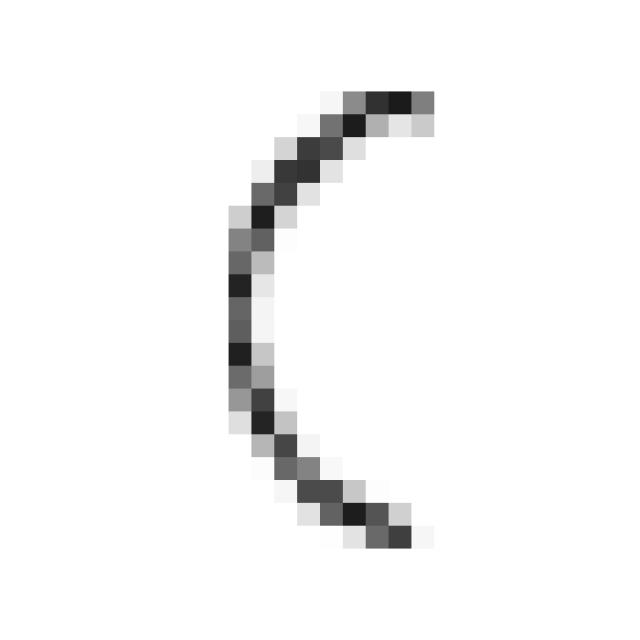2 -two-: (199, 64, 444, 569)
